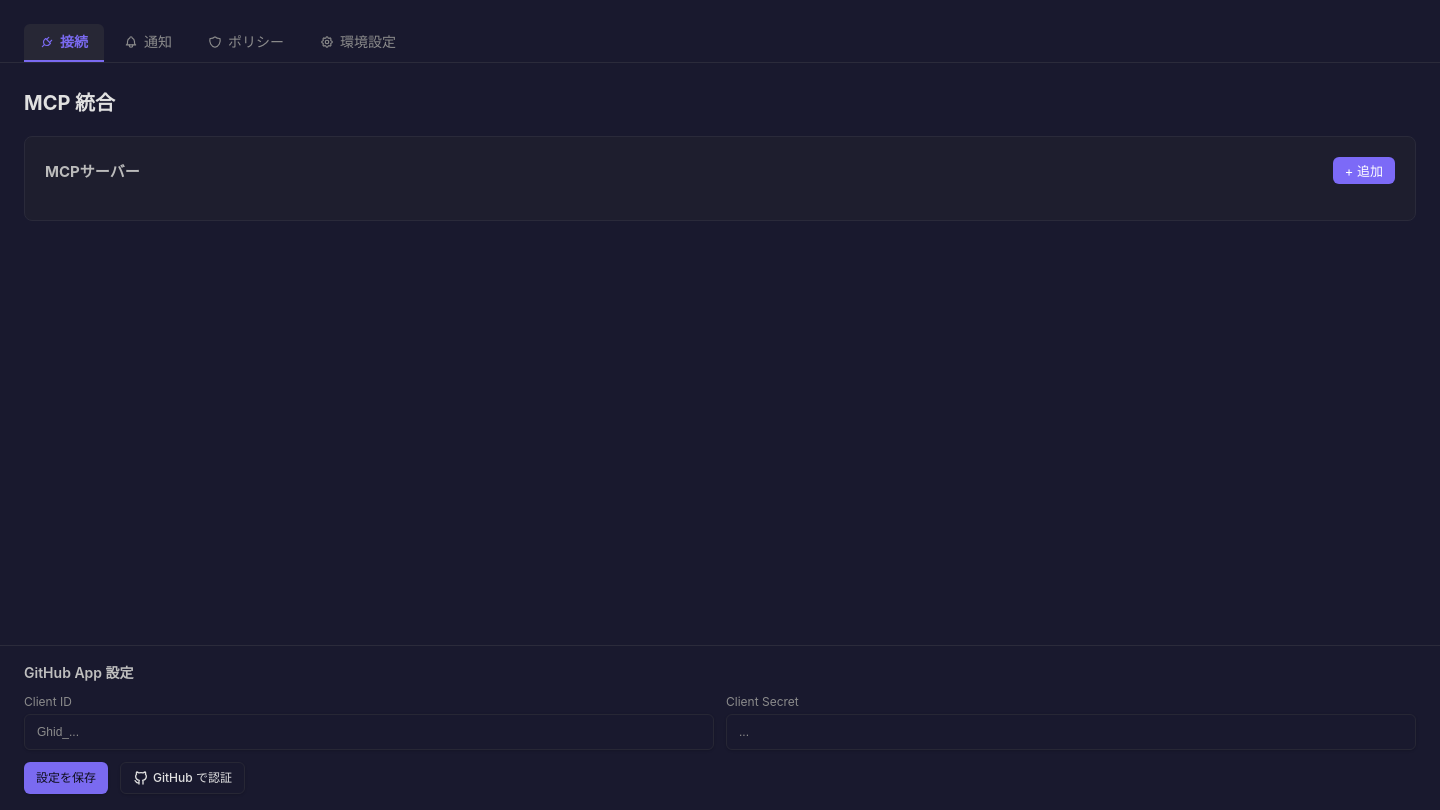
Test case: SettingsScreen › 通知未設定の場合「通知を許可する」ボタンが表示される
Click the button "通知" at (148, 43), box [108, 24, 188, 62]
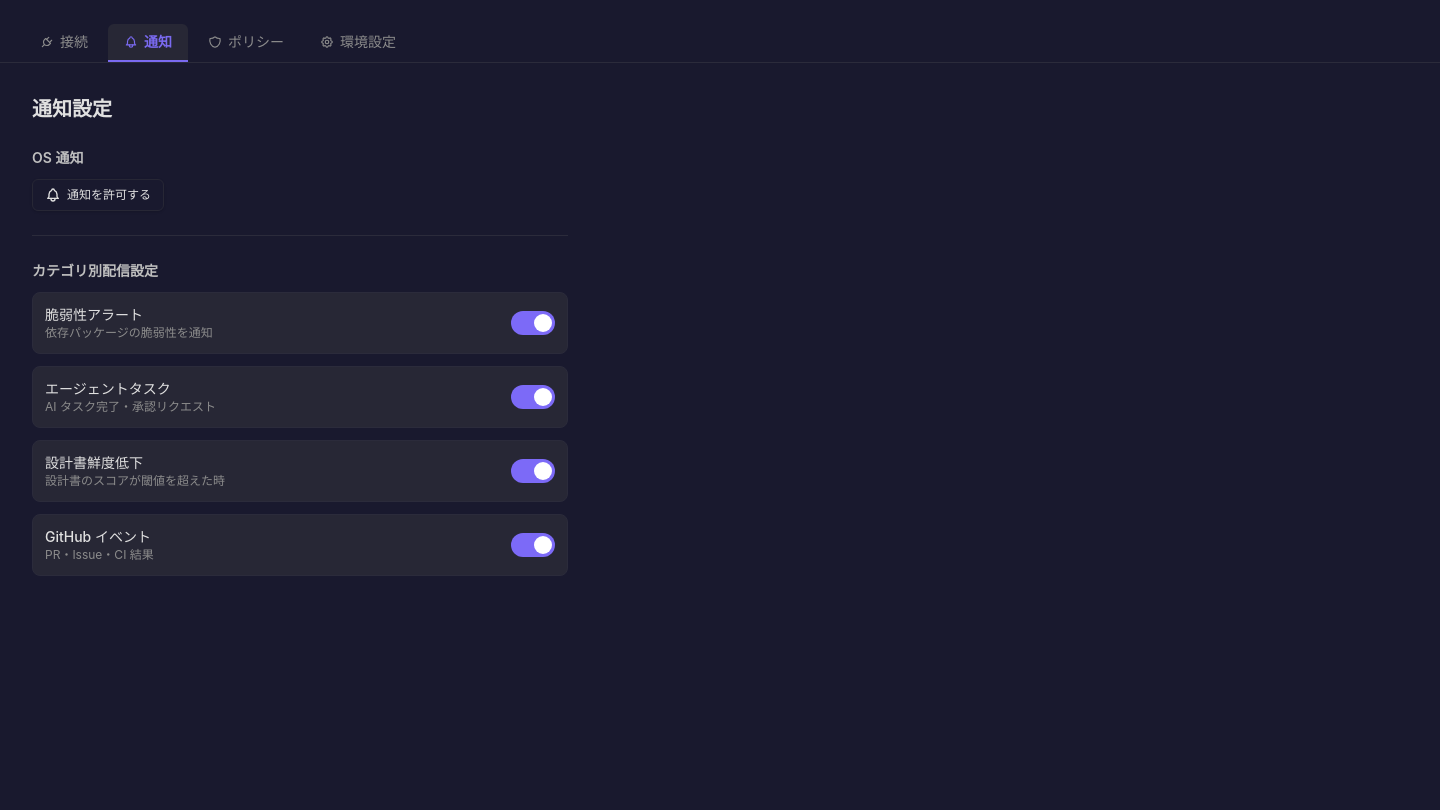
Check: the button "通知を許可する" is shown, box [32, 179, 164, 211]
